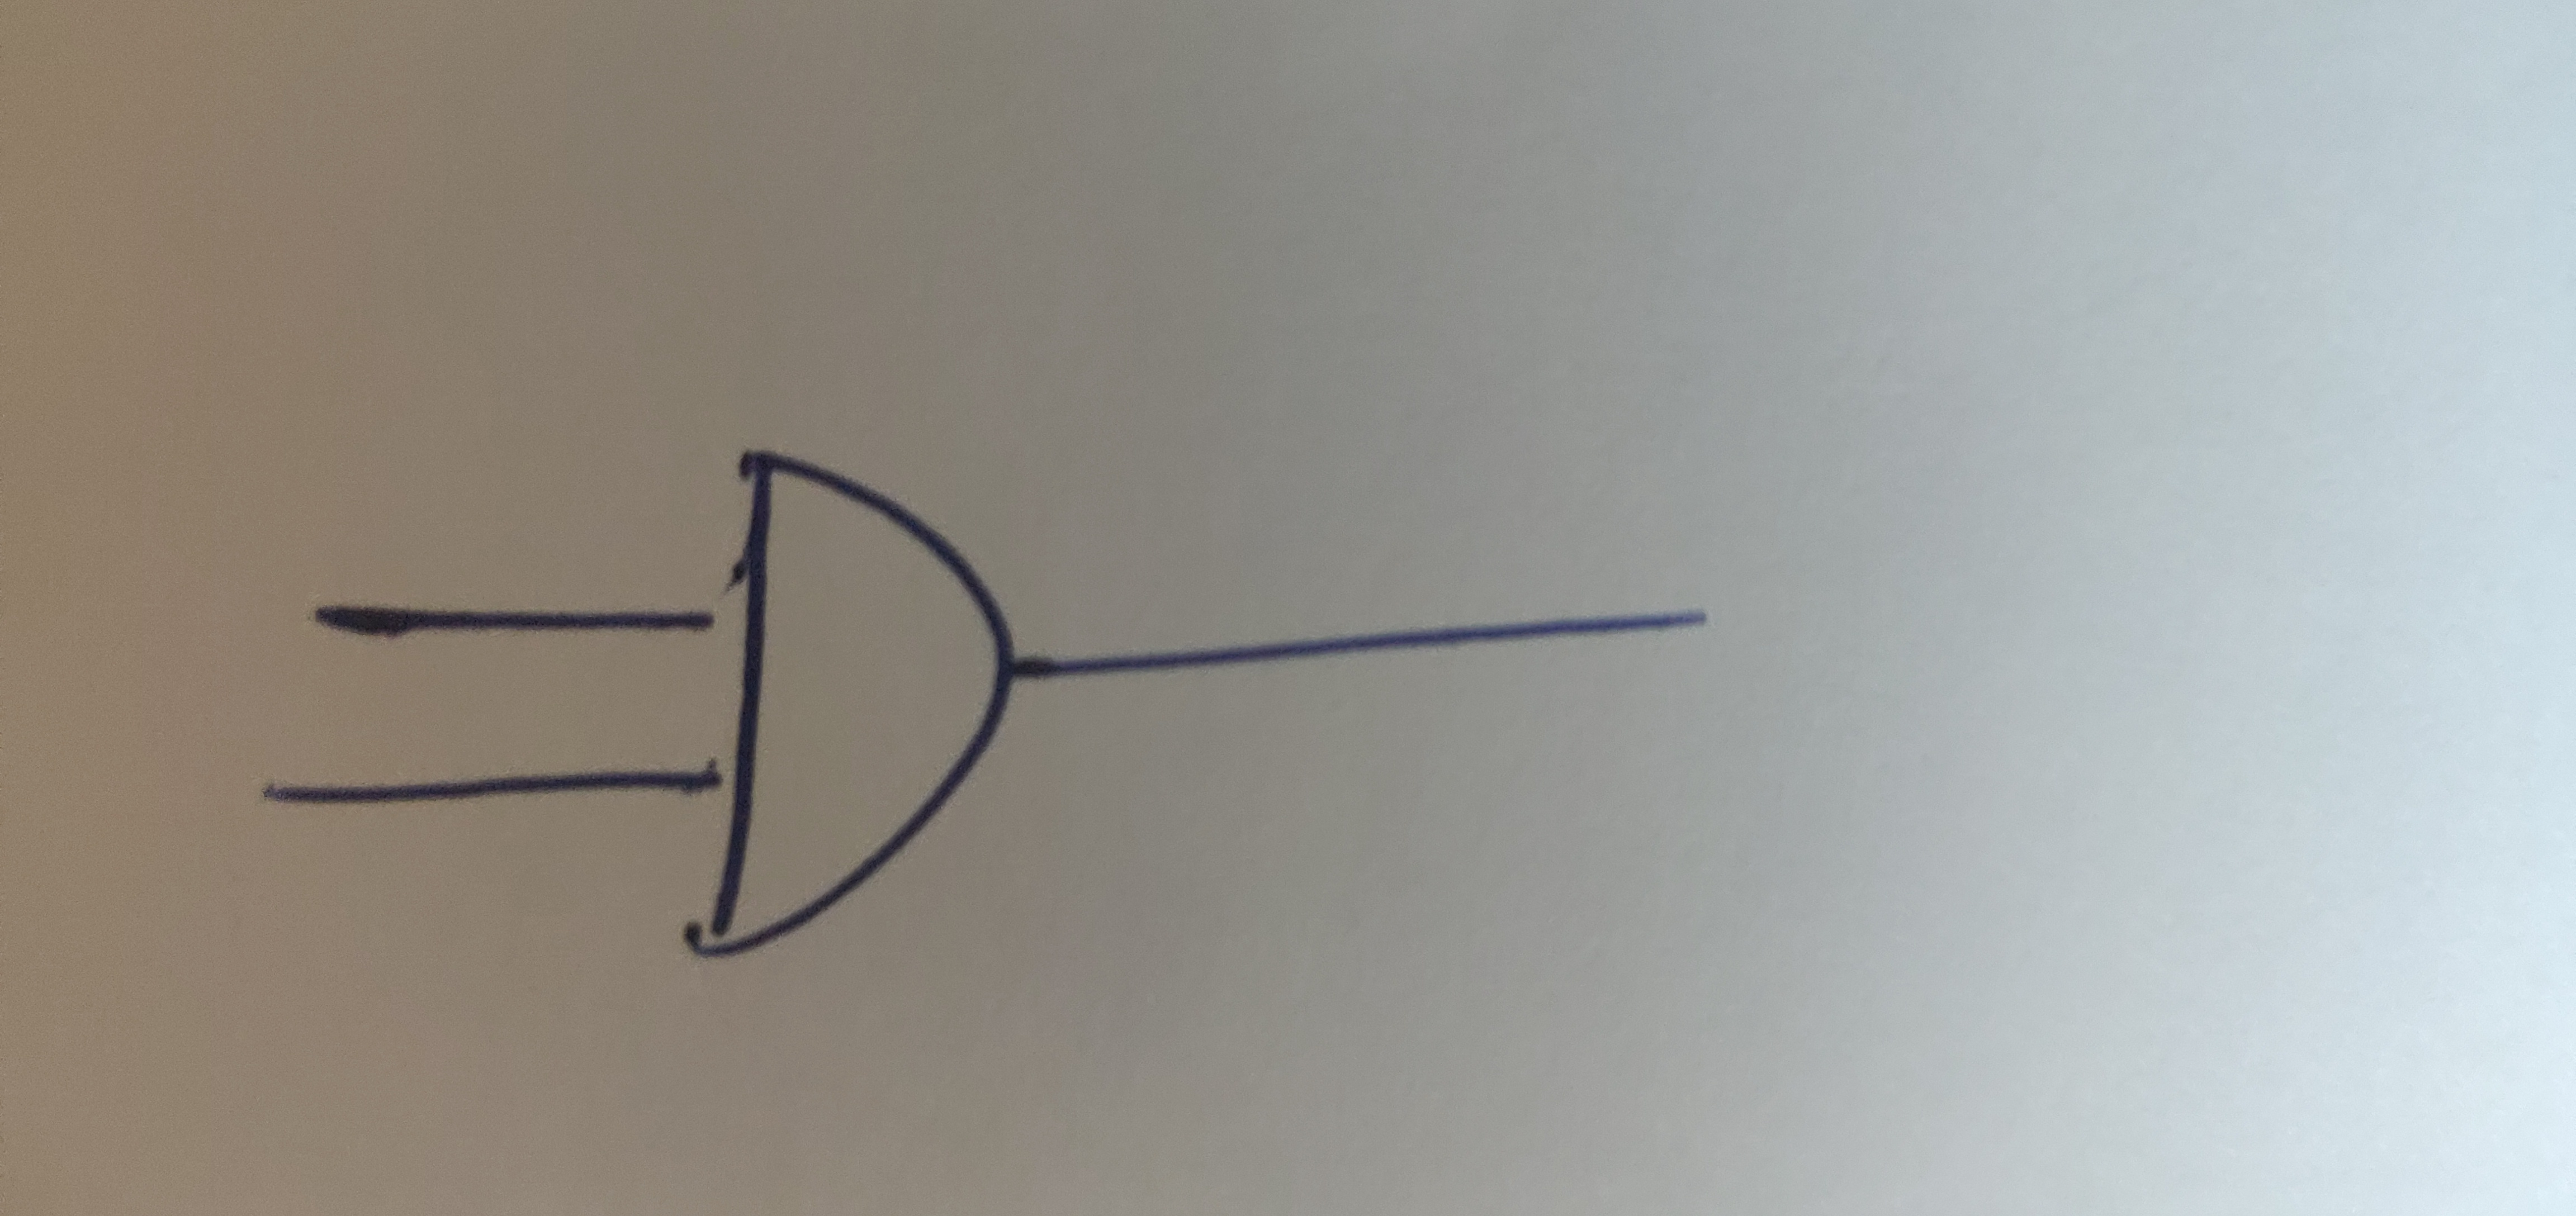and: (626, 411, 1104, 1025)
